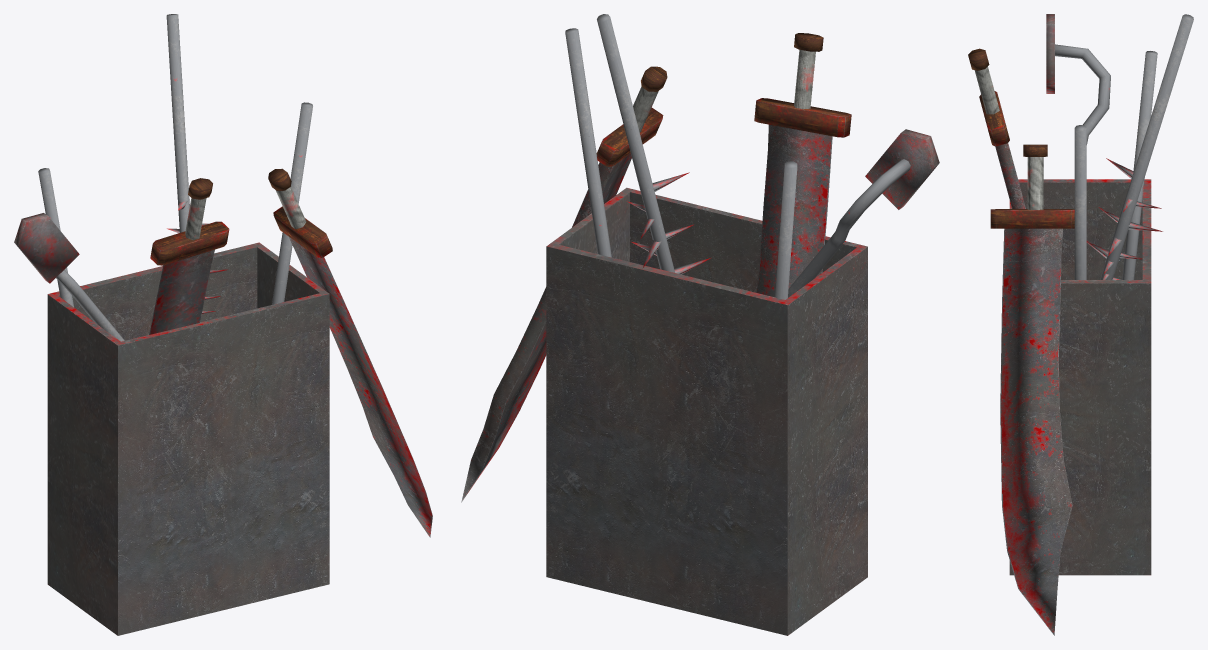
The model's file is Weapon_2.FBX.
3 renders of one model, left to right at view 1: azimuth 30°, elevation 25°; view 2: azimuth 150°, elevation 25°; view 3: azimuth 270°, elevation 25°, orthographic. The views are drawn at different scales.
Visible parts, largest first — view 1: Waepon_2; view 2: Waepon_2; view 3: Waepon_2.
Part boxes in pixels (x1,y1,x2,y2): Waepon_2: (14,14,432,635); Waepon_2: (461,14,939,635); Waepon_2: (968,14,1193,635).
Size of the model in its own units: 42.39 by 50.9 by 19.82.
